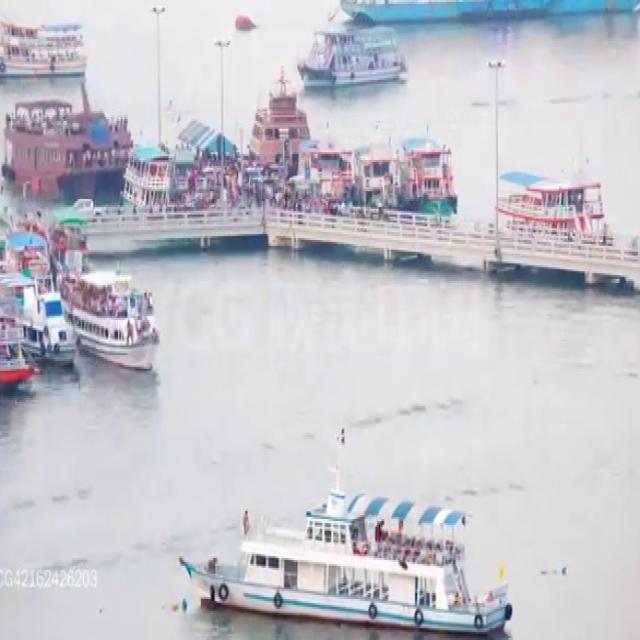passenger ship: (180, 449, 516, 638), (0, 86, 125, 209), (77, 257, 181, 396), (301, 6, 414, 95), (0, 8, 105, 78), (499, 159, 599, 230), (237, 66, 322, 146), (395, 136, 466, 218)
